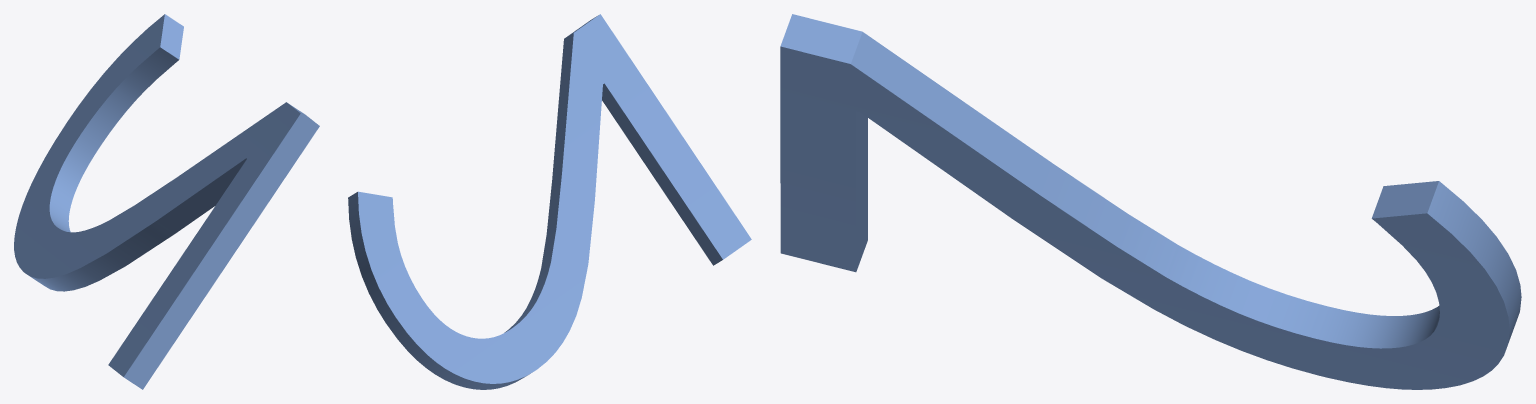
The model's file is New_Number_2.gltf.
3 renders of one model, left to right at view 1: azimuth 30°, elevation 25°; view 2: azimuth 150°, elevation 25°; view 3: azimuth 270°, elevation 25°, orthographic. The views are drawn at different scales.
Parts seen in each view (by area): view 1: Part 677; view 2: Part 677; view 3: Part 677.
Part boxes in pixels (x1,y1,x2,y2): Part 677: [14, 14, 319, 389]; Part 677: [348, 14, 751, 389]; Part 677: [780, 14, 1521, 389].
Bounding box in the file's own units: 0.0032 × 0.00321 × 0.00501.
